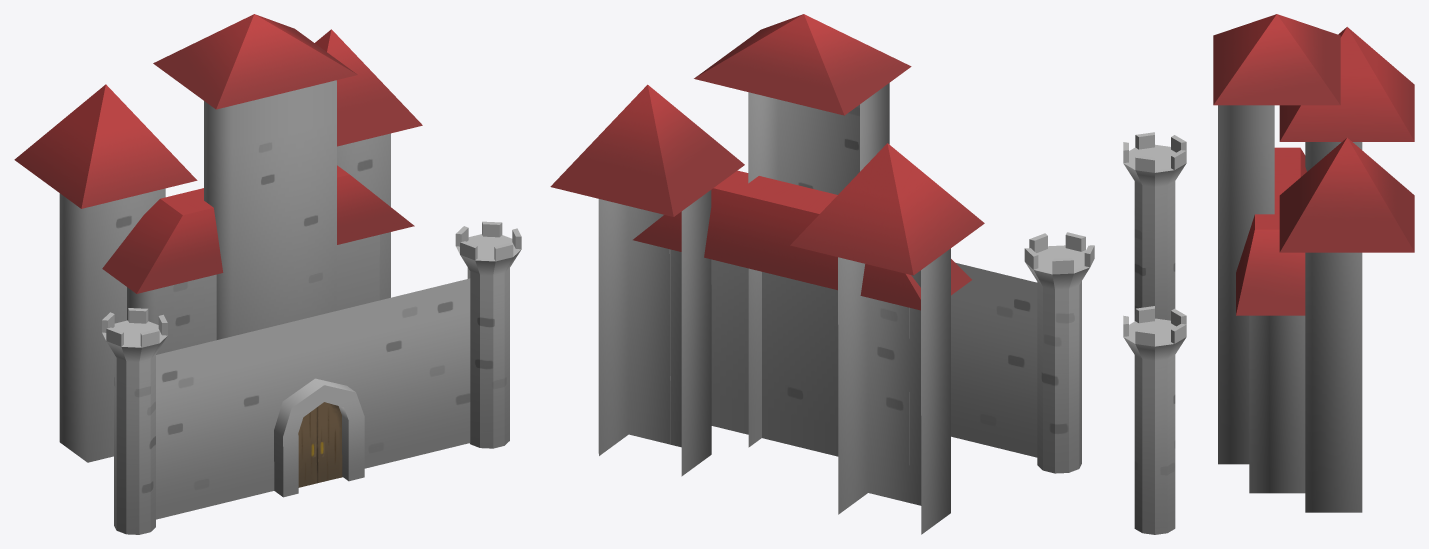
Rendered from CASTLE.fbx.
3 renders of one model, left to right at view 1: azimuth 30°, elevation 25°; view 2: azimuth 150°, elevation 25°; view 3: azimuth 270°, elevation 25°, orthographic. The views are drawn at different scales.
Parts seen in each view (by area): view 1: pPyramid5, pCylinder3; view 2: pPyramid5, pCylinder3; view 3: pPyramid5, pCylinder3.
Part boxes in pixels (bbox=[...]): pPyramid5: bbox=[14, 14, 422, 462]; pCylinder3: bbox=[102, 221, 521, 534]; pPyramid5: bbox=[550, 14, 984, 534]; pCylinder3: bbox=[951, 232, 1094, 473]; pPyramid5: bbox=[1213, 14, 1414, 512]; pCylinder3: bbox=[1123, 132, 1186, 534].
Size of the model in its own units: 25.21 by 24.83 by 15.38.
Materials: 2 (2 with a texture image).
